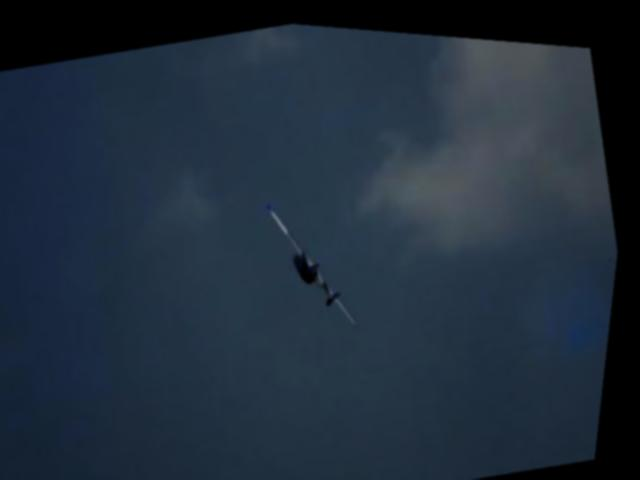uav: (253, 177, 380, 347)
